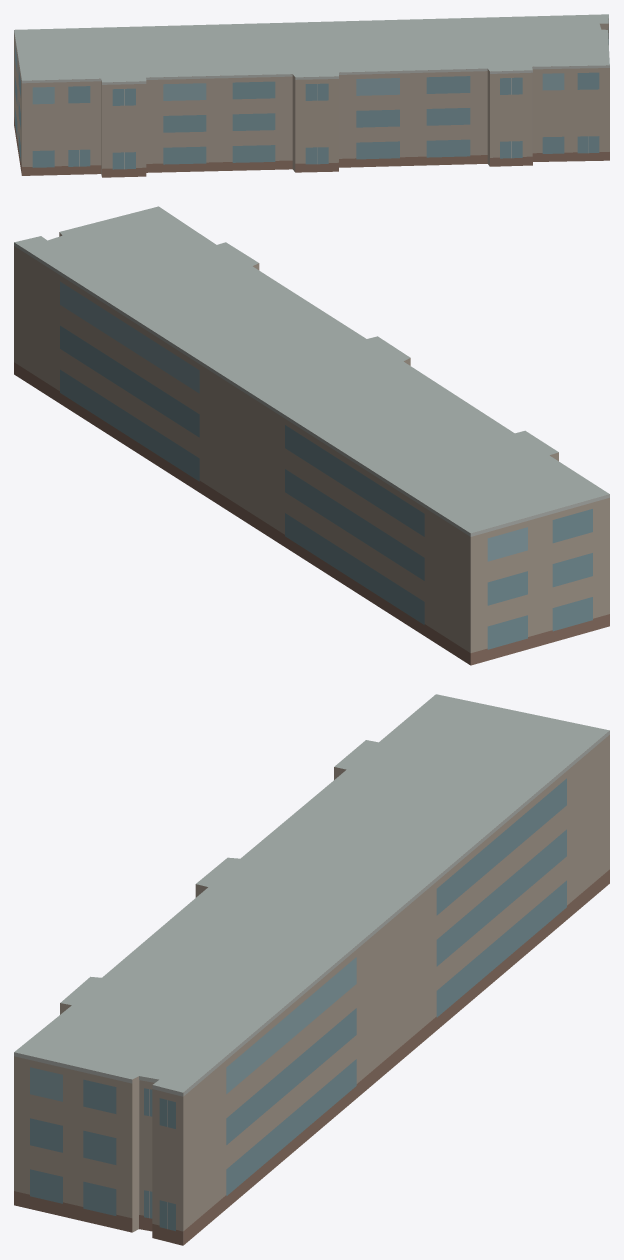
Rendered from survey-upis-32947870.glb.
3 views of the same model, one above another, from view 1: azimuth 30°, elevation 25°; view 2: azimuth 150°, elevation 25°; view 3: azimuth 270°, elevation 25° (orthographic). The views are drawn at different scales.
Parts seen in each view (by area): view 1: survey-upis-32947870.tmp; view 2: survey-upis-32947870.tmp; view 3: survey-upis-32947870.tmp.
Boxes of the visible parts, box(x1,y1,x2,y2) form: survey-upis-32947870.tmp: box(14, 14, 609, 177); survey-upis-32947870.tmp: box(14, 206, 609, 665); survey-upis-32947870.tmp: box(14, 694, 609, 1245).
Size of the model in its own units: 51.11 by 9.15 by 32.29.
